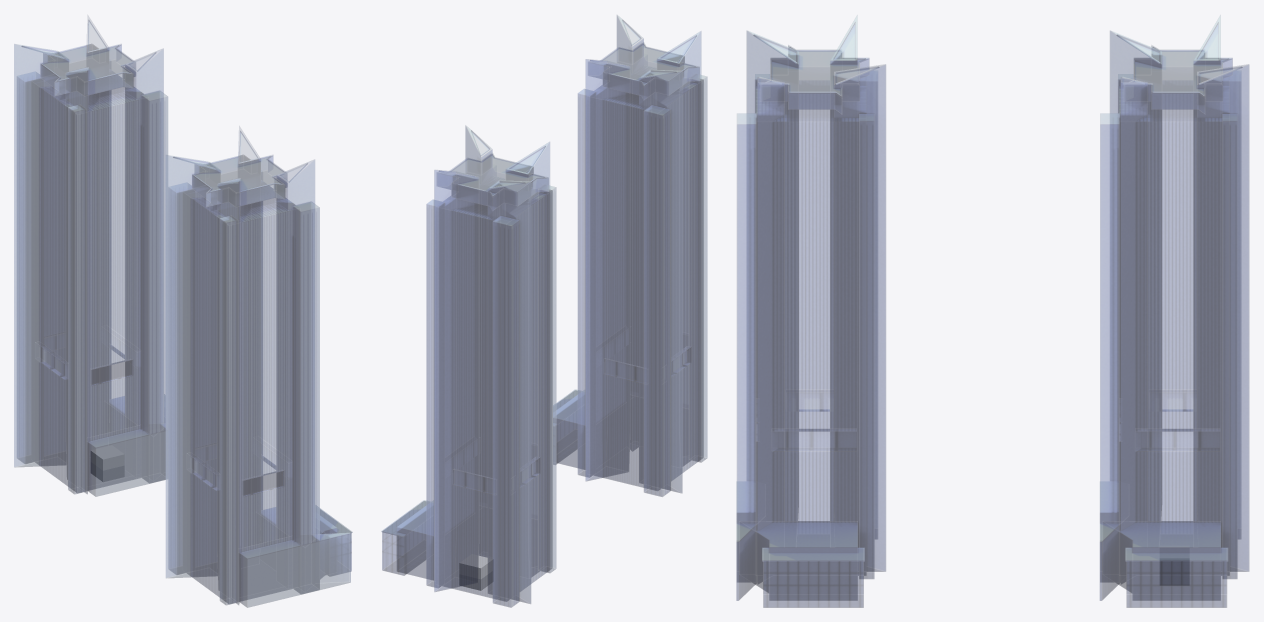
File: 1515_metallic_factor.glb
3 views of the same model, side by side, from view 1: azimuth 30°, elevation 25°; view 2: azimuth 150°, elevation 25°; view 3: azimuth 270°, elevation 25° (orthographic). The views are drawn at different scales.
Visible parts, largest first — view 1: 1515_6.obj, 1515_6.obj.001, Cube; view 2: 1515_6.obj.001, 1515_6.obj, Cube; view 3: 1515_6.obj.001, 1515_6.obj, Cube.
Part boxes in pixels (box(x1,y1,x2,y2)): 1515_6.obj: box(166, 126, 352, 607); 1515_6.obj.001: box(14, 15, 167, 496); Cube: box(91, 445, 124, 481); 1515_6.obj.001: box(381, 125, 556, 607); 1515_6.obj: box(553, 15, 707, 496); Cube: box(459, 554, 493, 590); 1515_6.obj.001: box(1100, 15, 1249, 607); 1515_6.obj: box(736, 15, 885, 607); Cube: box(1160, 546, 1189, 585).
Bounding box in the file's own units: 13.62 × 38.44 × 34.27.
3 materials, 2 textured.
